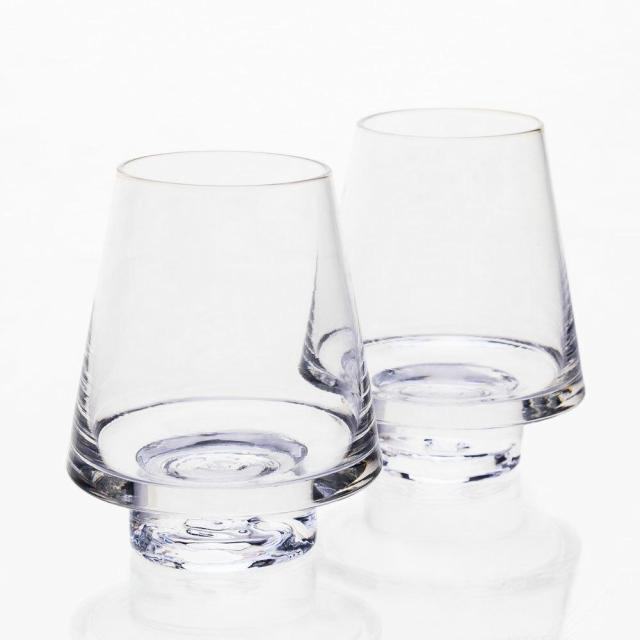non-organic waste: (67, 136, 384, 567)
